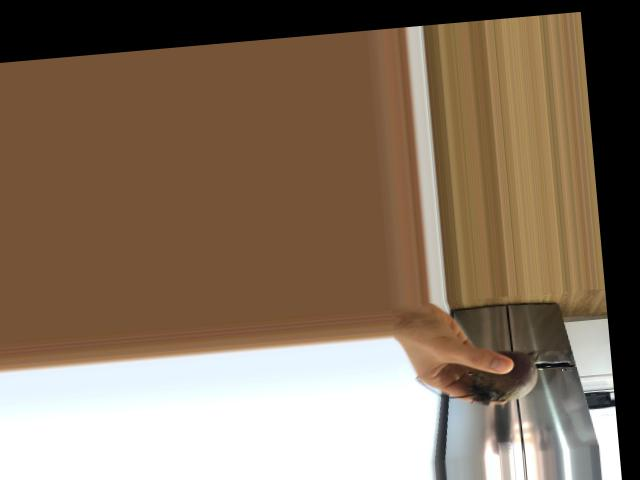beet: (414, 347, 551, 411)
